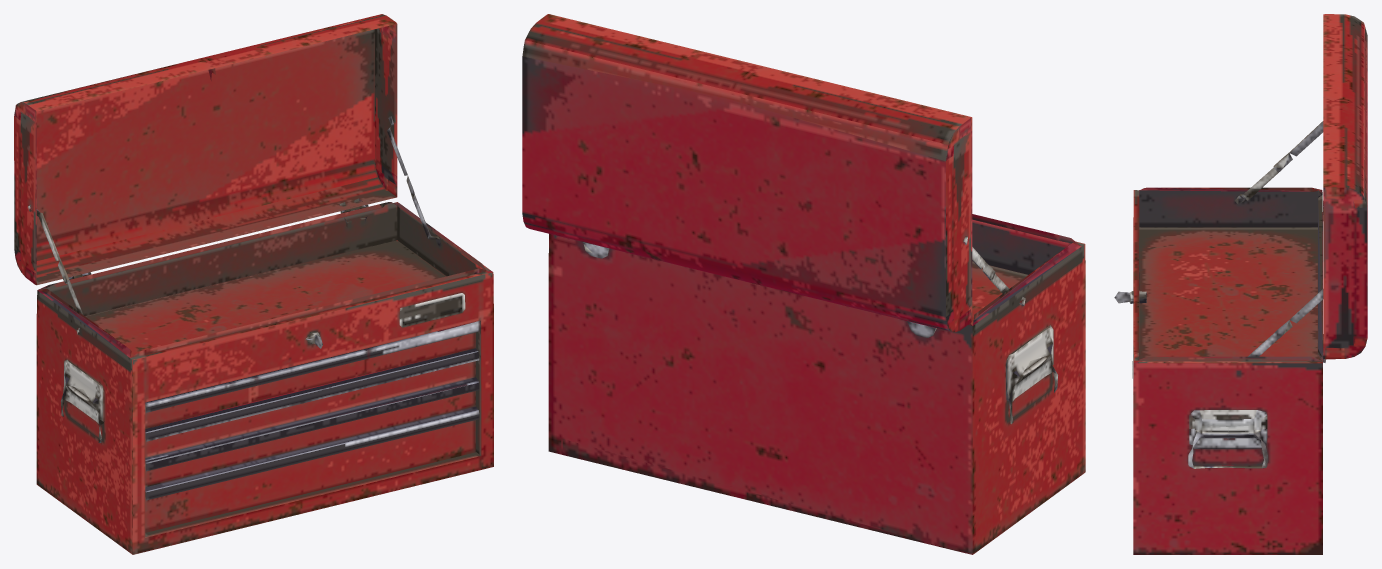
File: metal_tool_chest.glb
3 renders of one model, left to right at view 1: azimuth 30°, elevation 25°; view 2: azimuth 150°, elevation 25°; view 3: azimuth 270°, elevation 25°, orthographic. The views are drawn at different scales.
Parts seen in each view (by area): view 1: mesh; view 2: mesh; view 3: mesh.
Part boxes in pixels (bbox=[...]): mesh: bbox=[14, 14, 493, 554]; mesh: bbox=[522, 14, 1085, 554]; mesh: bbox=[1114, 14, 1367, 554].
Size of the model in its own units: 0.6846 by 0.6518 by 0.4069.
1 material, 1 textured.
